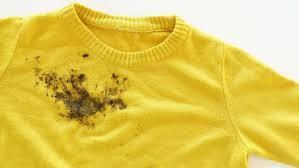earth: (41, 72, 129, 126)
